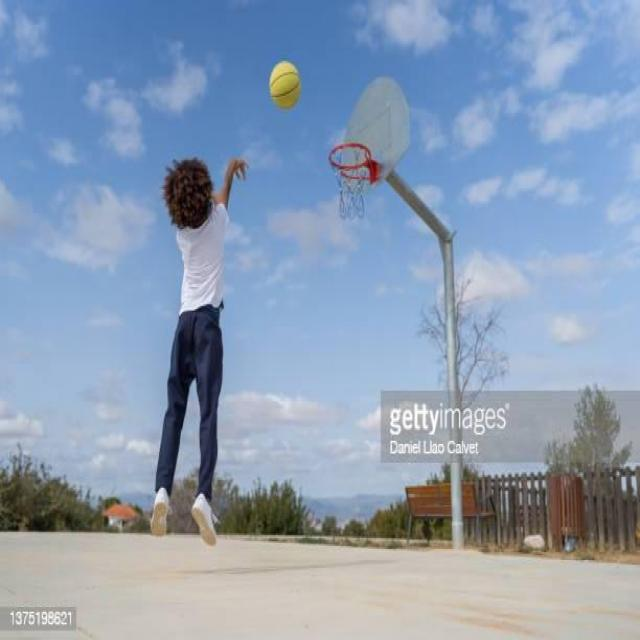Basketball: (270, 59, 302, 108)
hoop: (328, 142, 371, 220)
